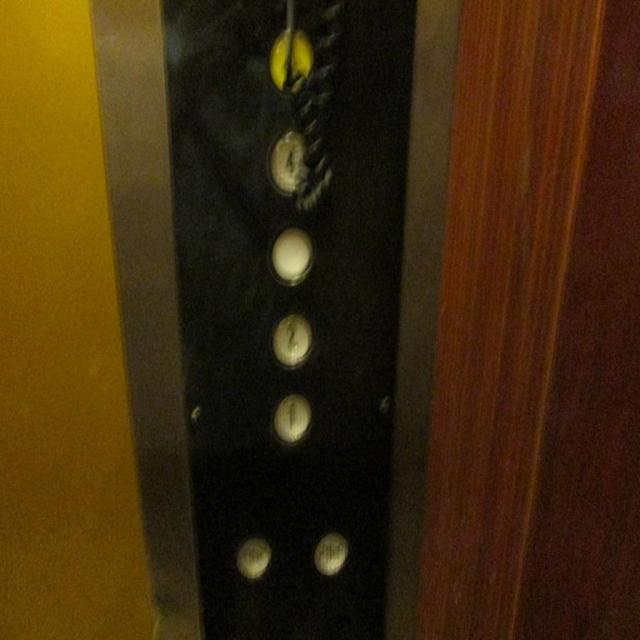1: (268, 389, 314, 447)
2: (268, 310, 314, 371)
blur: (265, 128, 321, 198), (268, 27, 318, 95), (311, 528, 350, 576), (234, 533, 273, 580)
empty: (267, 222, 317, 286)
